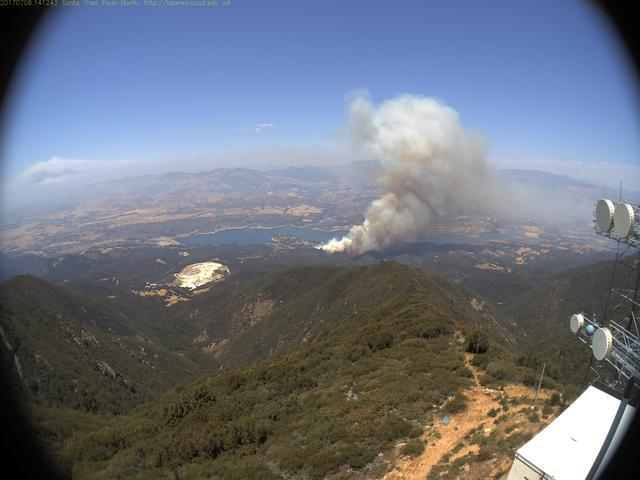smoke: (315, 83, 559, 258)
